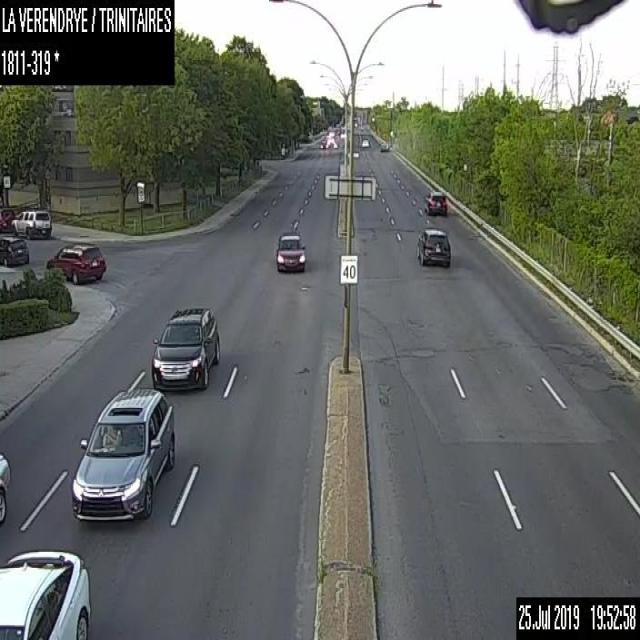vehicle: (71, 386, 175, 522), (0, 548, 89, 639), (151, 307, 220, 389), (46, 241, 106, 284), (416, 226, 450, 266), (12, 208, 52, 238), (276, 232, 304, 272), (0, 235, 29, 265), (0, 451, 10, 525), (422, 189, 446, 216), (0, 205, 14, 232), (361, 137, 369, 147), (352, 148, 359, 157), (320, 139, 327, 148)
